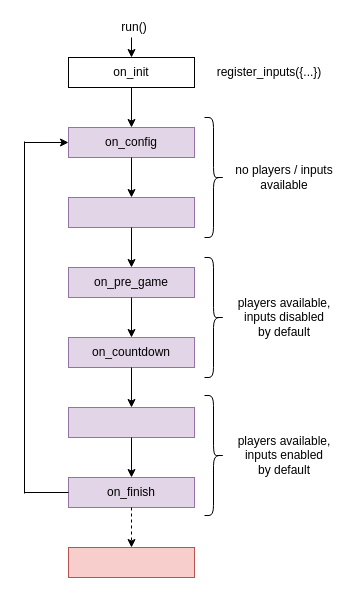
The diagram is 362 pixels wide and 595 high, and some of its shapes have lost their labels. The box of each missing label's shape, as (x1, y1, x2, y2) in pixels:
on_exit: (68, 546, 194, 578)
on_prepare: (68, 196, 194, 228)
on_start: (68, 406, 194, 438)
